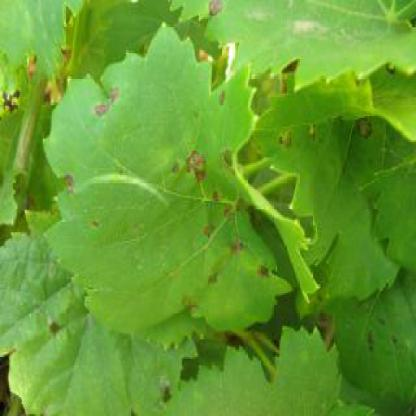grape leaf black rot: (44, 29, 280, 340)
